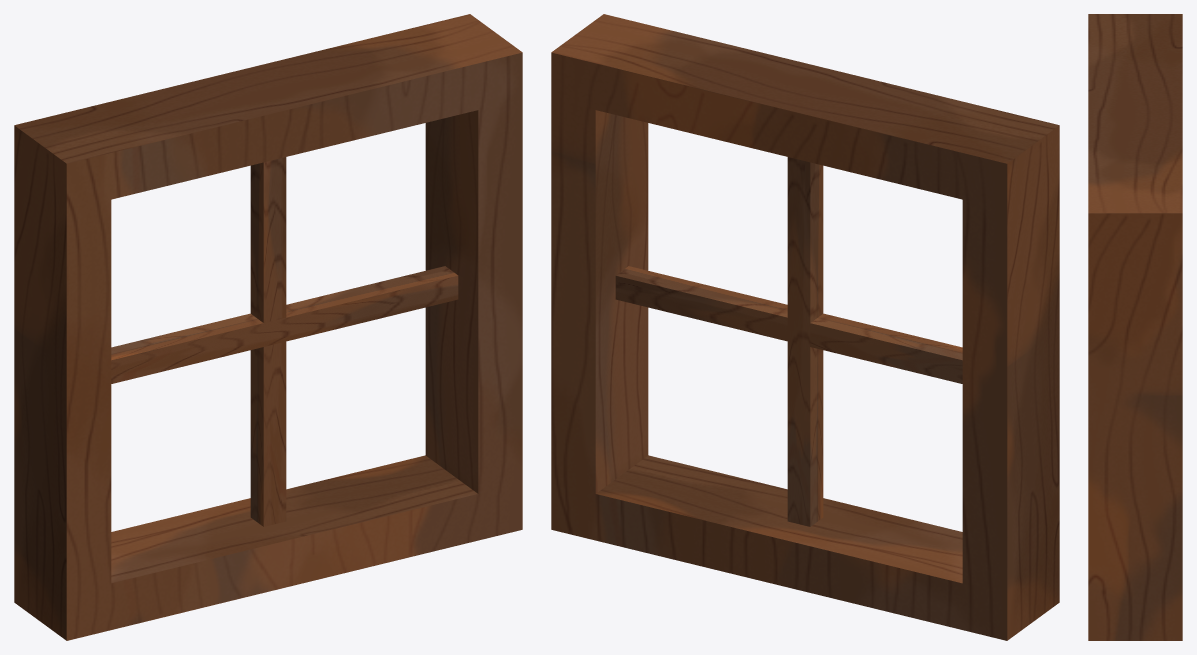
File: Window Frame 4.fbx
3 renders of one model, left to right at view 1: azimuth 30°, elevation 25°; view 2: azimuth 150°, elevation 25°; view 3: azimuth 270°, elevation 25°, orthographic. The views are drawn at different scales.
Visible parts, largest first — view 1: Window Frame; view 2: Window Frame; view 3: Window Frame.
Boxes of the visible parts, x1,y1,x2,y2 form: Window Frame: (14,14,522,640); Window Frame: (551,14,1059,640); Window Frame: (1088,14,1182,640).
Bounding box in the file's own units: 40 × 40 × 8.
